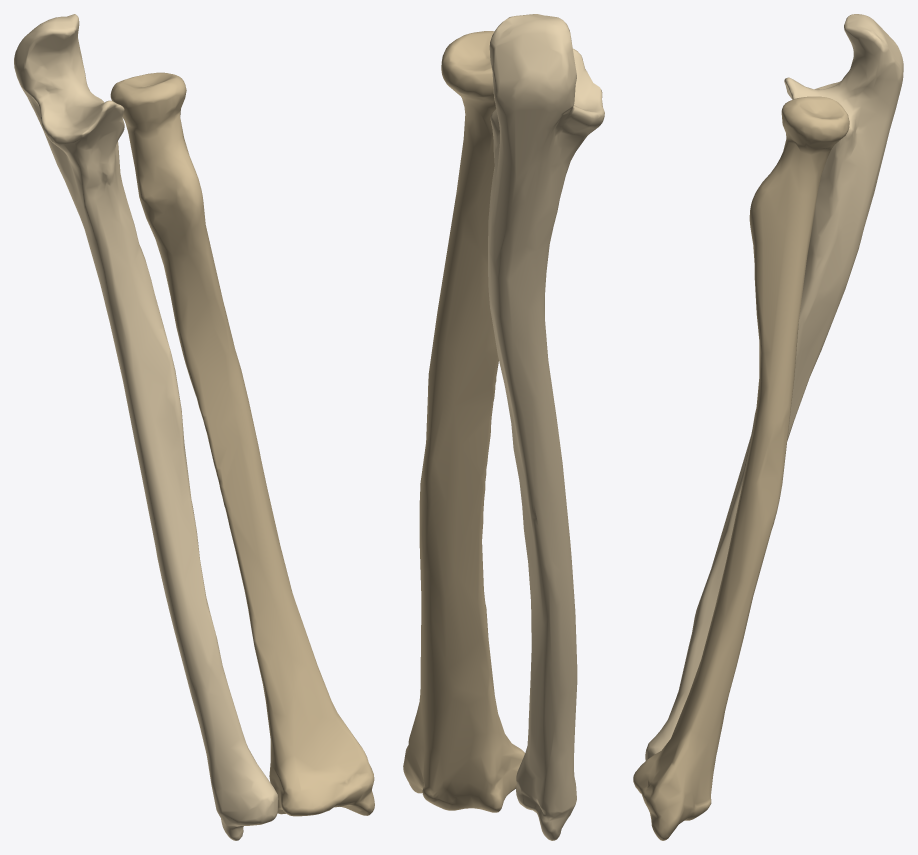
Rendered from l-forearm.glb.
3 renders of one model, left to right at view 1: azimuth 30°, elevation 25°; view 2: azimuth 150°, elevation 25°; view 3: azimuth 270°, elevation 25°, orthographic. The views are drawn at different scales.
Parts seen in each view (by area): view 1: left-radius, left-ulna; view 2: left-ulna, left-radius; view 3: left-radius, left-ulna.
Part boxes in pixels (x1=…): left-radius: x1=110, y1=72, x2=374, y2=816; left-ulna: x1=14, y1=14, x2=278, y2=840; left-ulna: x1=488, y1=14, x2=604, y2=840; left-radius: x1=403, y1=31, x2=525, y2=812; left-radius: x1=633, y1=96, x2=849, y2=840; left-ulna: x1=645, y1=14, x2=903, y2=760.
Size of the model in its own units: 0.2072 by 0.6191 by 0.2082.
